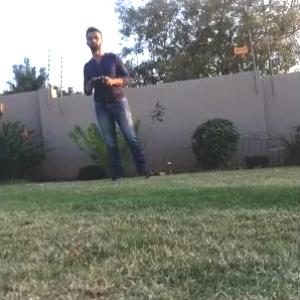follow: (82, 21, 157, 184)
